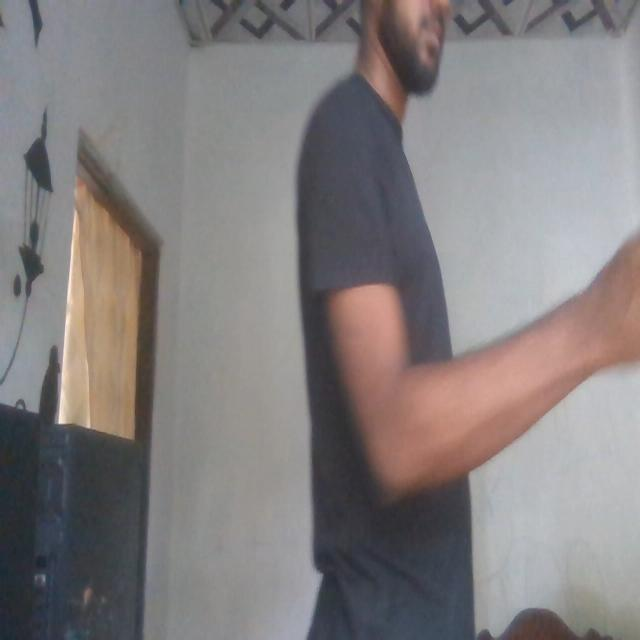Person: (294, 0, 640, 640)
